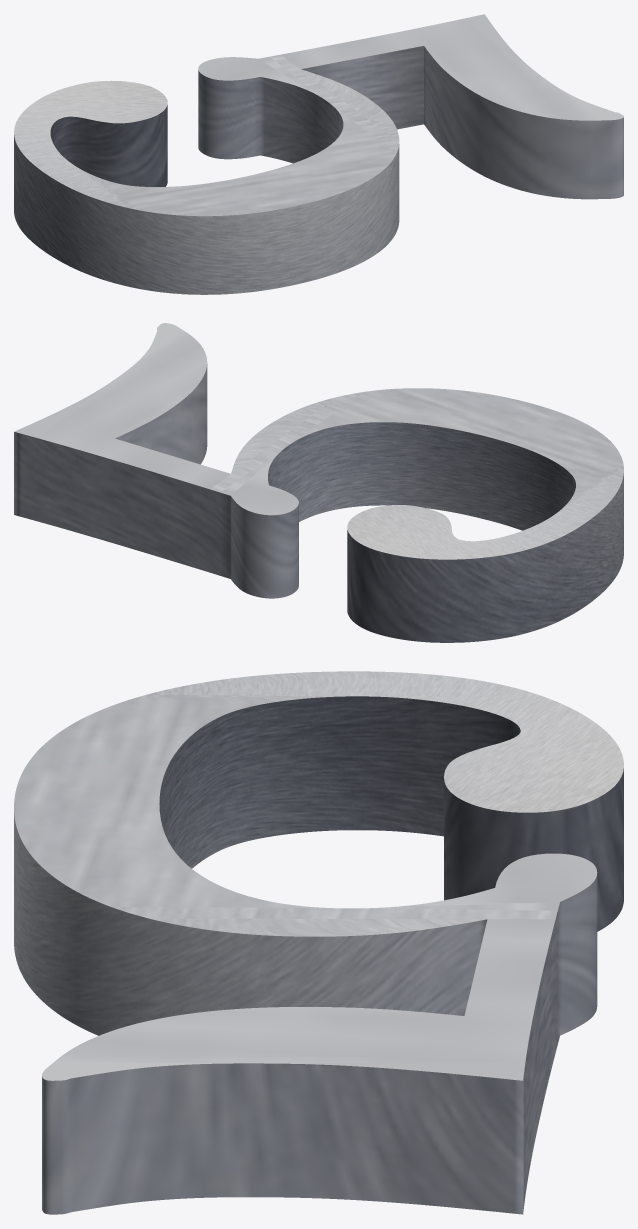
The model's file is number5.obj.
3 renders of one model, top to bottom at view 1: azimuth 30°, elevation 25°; view 2: azimuth 150°, elevation 25°; view 3: azimuth 270°, elevation 25°, orthographic. The views are drawn at different scales.
Parts seen in each view (by area): view 1: Text.027; view 2: Text.027; view 3: Text.027.
Boxes of the visible parts, <box> form: Text.027: <box>14,14,623,294</box>; Text.027: <box>14,323,623,642</box>; Text.027: <box>14,671,623,1214</box>.
Bounding box in the file's own units: 1.05 × 0.1602 × 0.662.
